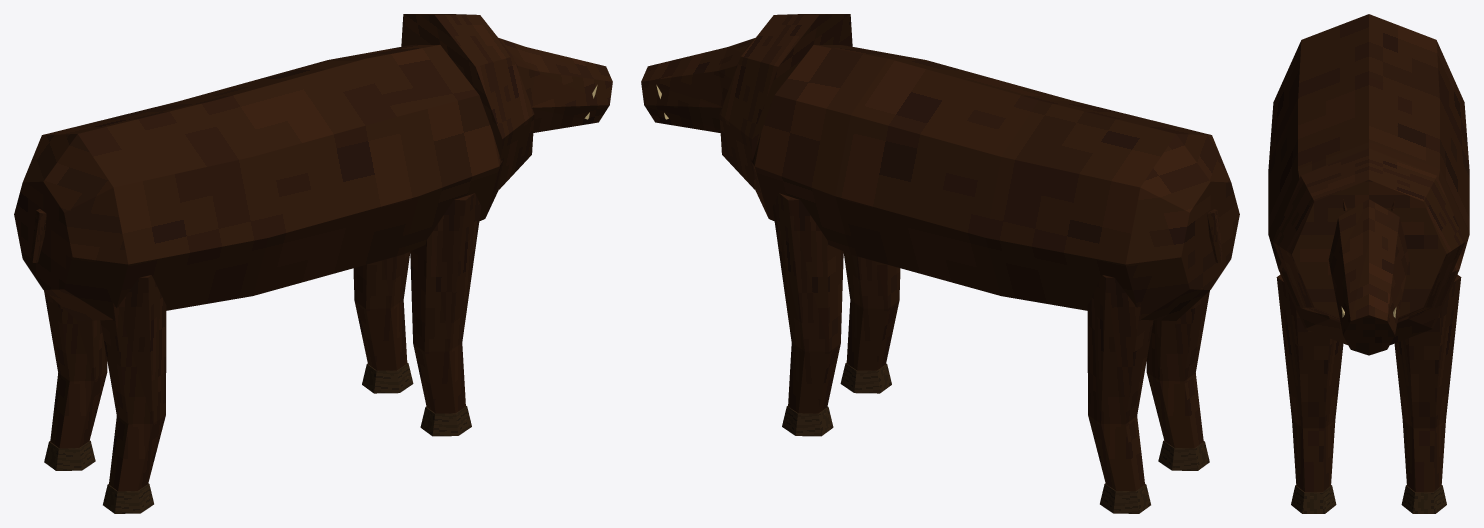
Rendered from jabali.glb.
The picture shows the model from 3 angles, left to right: view 1: azimuth 30°, elevation 25°; view 2: azimuth 150°, elevation 25°; view 3: azimuth 270°, elevation 25°; orthographic projection. The views are drawn at different scales.
Parts seen in each view (by area): view 1: cuerpo, pata_delantera_der, pata_trasera_der, cuello, pata_trasera_izq, cabeza, pata_delantera_izq, pezuna_delantera_izq, pezuna_delantera_der, pezuna_trasera_izq, pezuna_trasera_der; view 2: cuerpo, pata_delantera_izq, pata_trasera_izq, cuello, pata_trasera_der, cabeza, pata_delantera_der, pezuna_delantera_der, pezuna_delantera_izq, pezuna_trasera_der, pezuna_trasera_izq; view 3: cuerpo, cuello, cabeza, pata_delantera_izq, pata_delantera_der, pezuna_delantera_izq, pezuna_delantera_der.
Part boxes in pixels (x1,y1,x2,y2): cuerpo: (14,44,502,320); pata_delantera_der: (410,193,481,413); pata_trasera_der: (100,275,166,491); cuello: (401,14,534,189); pata_trasera_izq: (44,291,107,448); cabeza: (499,38,612,132); pata_delantera_izq: (353,251,410,370); pezuna_delantera_izq: (362,363,413,393); pezuna_delantera_der: (420,406,471,436); pezuna_trasera_izq: (44,440,95,470); pezuna_trasera_der: (103,483,153,513); cuerpo: (751,44,1239,320); pata_delantera_izq: (772,193,843,413); pata_trasera_izq: (1087,275,1153,491); cuello: (719,14,852,189); pata_trasera_der: (1146,291,1209,448); cabeza: (641,38,754,132); pata_delantera_der: (843,251,900,370); pezuna_delantera_der: (840,363,891,393); pezuna_delantera_izq: (782,406,833,436); pezuna_trasera_der: (1158,440,1209,470); pezuna_trasera_izq: (1100,483,1150,513); cuerpo: (1268,14,1469,344); cuello: (1272,148,1465,320); cabeza: (1328,199,1409,355); pata_delantera_izq: (1394,274,1461,492); pata_delantera_der: (1276,274,1343,492); pezuna_delantera_izq: (1401,485,1446,513); pezuna_delantera_der: (1291,485,1336,513).
Bounding box in the file's own units: 1.4 × 0.9 × 0.45.
Materials: 1 (1 with a texture image).
